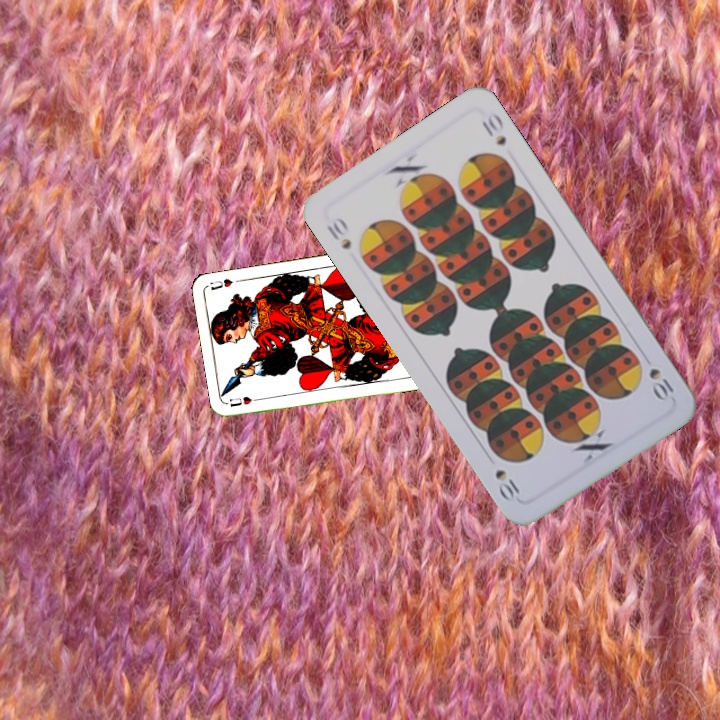HU: (226, 392, 265, 410)
S10: (645, 364, 677, 404), (322, 213, 354, 253)
